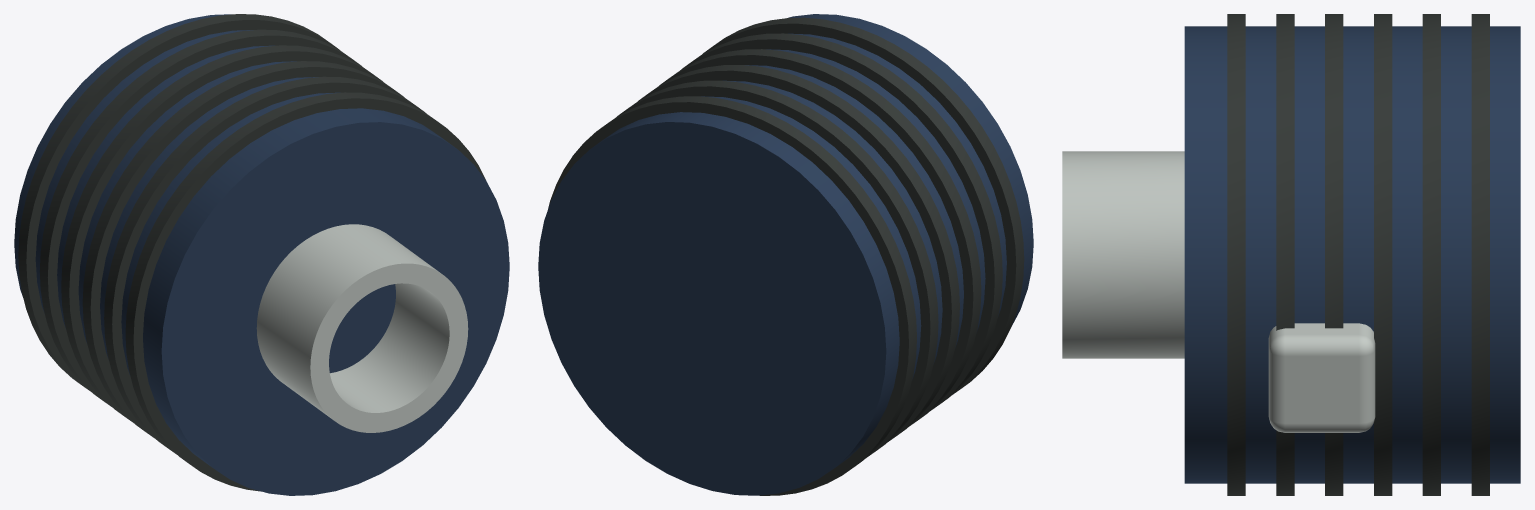
The model's file is planetarium-and-optical-observatory-astronomical-camer-771c7179__31855.glb.
3 views of the same model, side by side, from view 1: azimuth 30°, elevation 25°; view 2: azimuth 150°, elevation 25°; view 3: azimuth 270°, elevation 25° (orthographic). The views are drawn at different scales.
Parts seen in each view (by area): view 1: astronomical-camera; view 2: astronomical-camera; view 3: astronomical-camera.
Part boxes in pixels (x1,y1,x2,y2): astronomical-camera: (14, 14, 509, 495); astronomical-camera: (538, 14, 1033, 495); astronomical-camera: (1062, 14, 1520, 495).
Bounding box in the file's own units: 0.1675 × 0.158 × 0.15.
